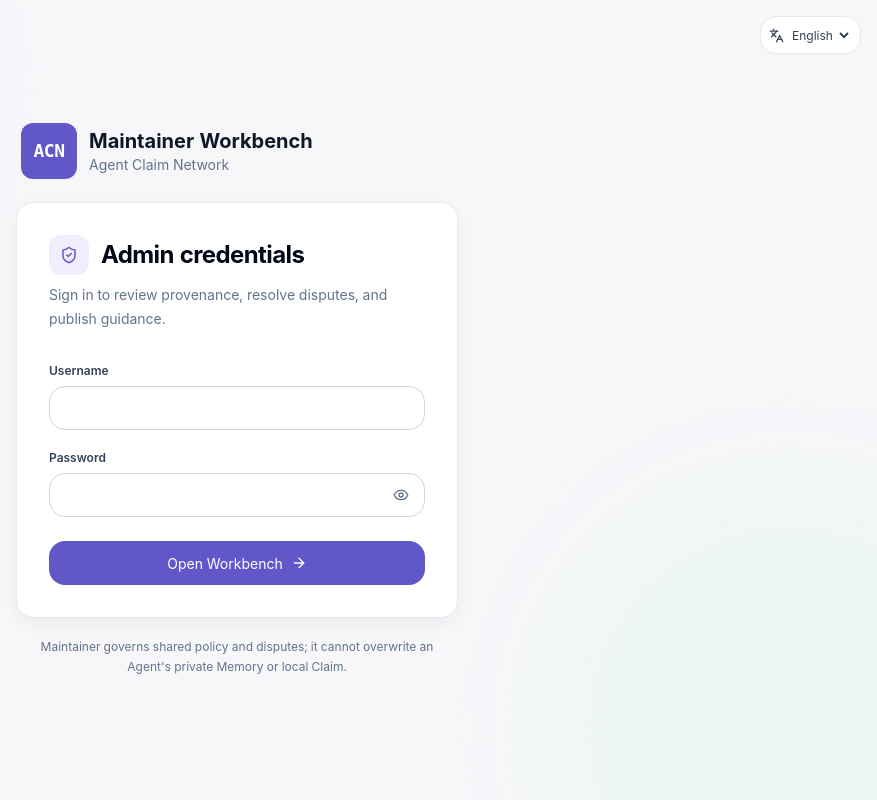
Test: workbench routes › toggles password visibility from the reveal button
Type "secret" into the password field labelled "Password" at (237, 495), box x1=49 y1=473 x2=425 y2=517
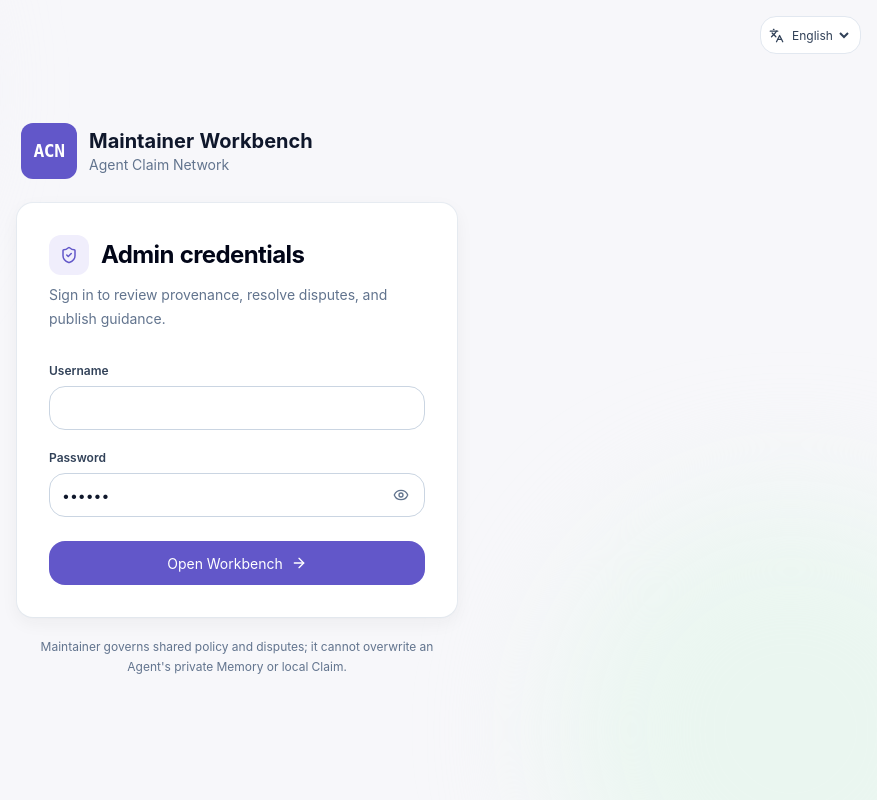
Click the button named "Show password" at (401, 495), box x1=383 y1=477 x2=419 y2=513
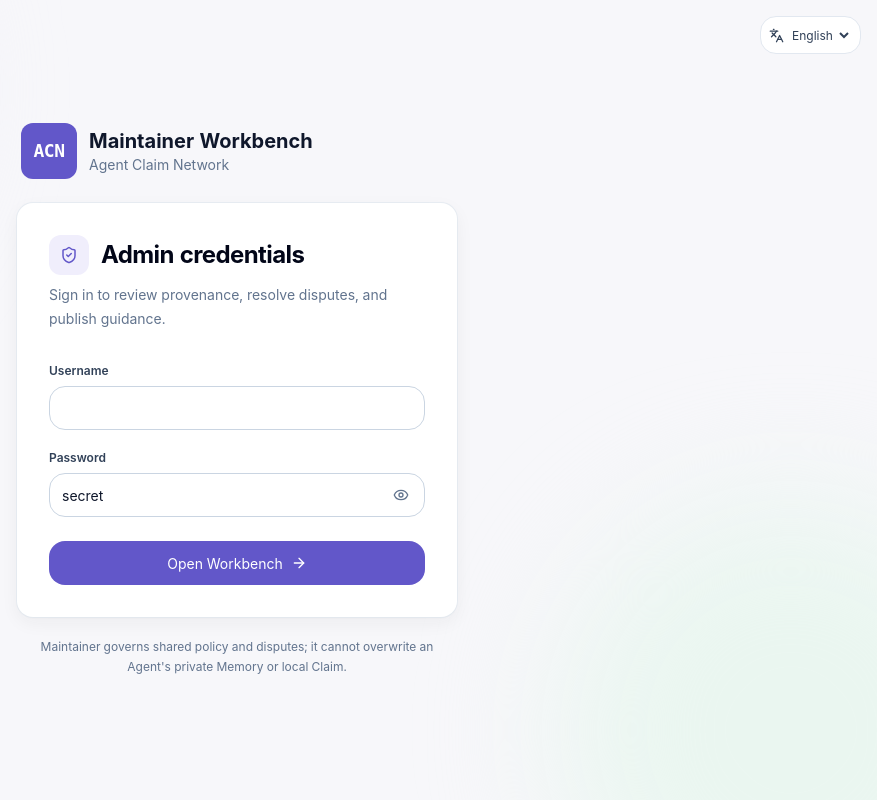
Result: the field labelled "Password" shows its text at x1=49 y1=473 x2=425 y2=517
Click the button named "Hide password" at (401, 495), box x1=383 y1=477 x2=419 y2=513
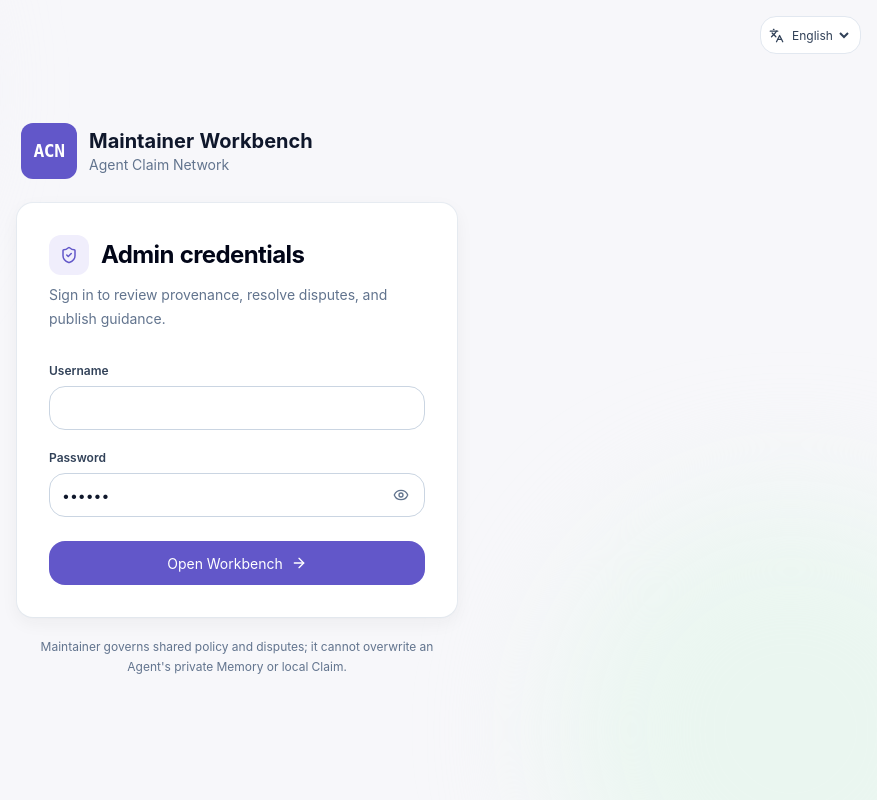
Result: the password field labelled "Password" hides its text at x1=49 y1=473 x2=425 y2=517
